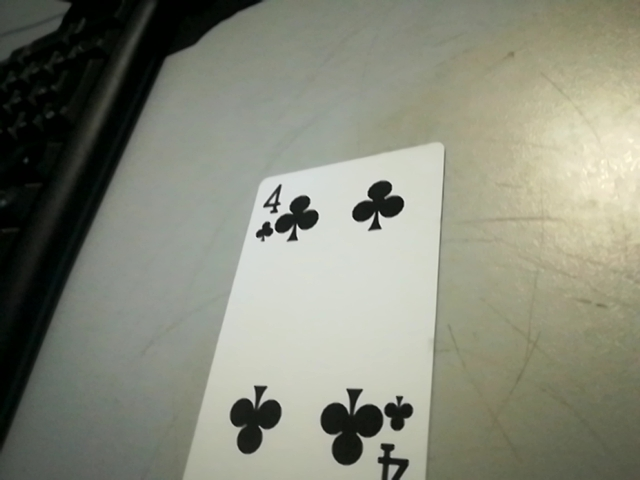mh 4: (375, 389, 424, 480)
